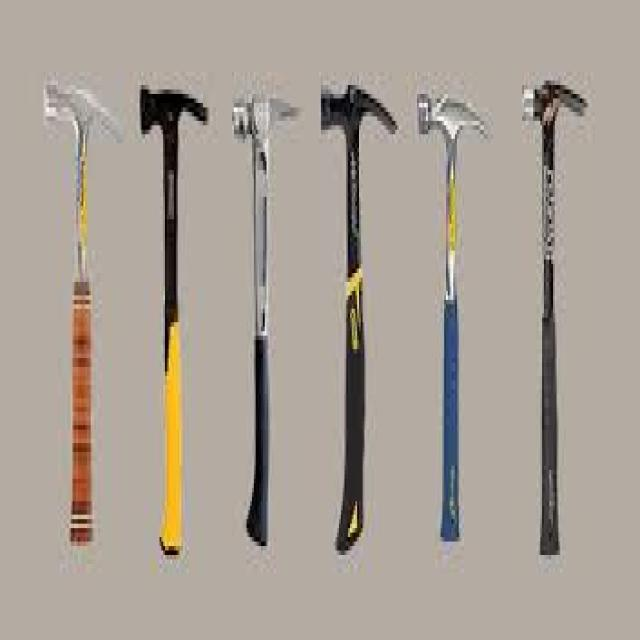Palu: (41, 72, 130, 568), (313, 66, 397, 574), (508, 62, 586, 590), (137, 74, 215, 582), (407, 60, 488, 547), (226, 70, 303, 566)
